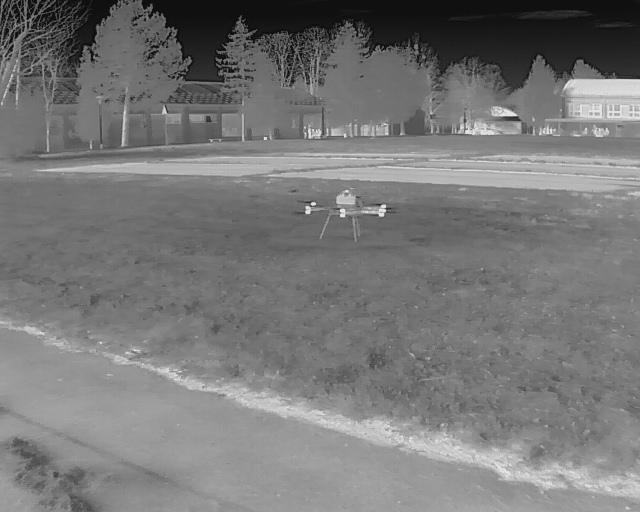drone: (296, 190, 386, 238)
